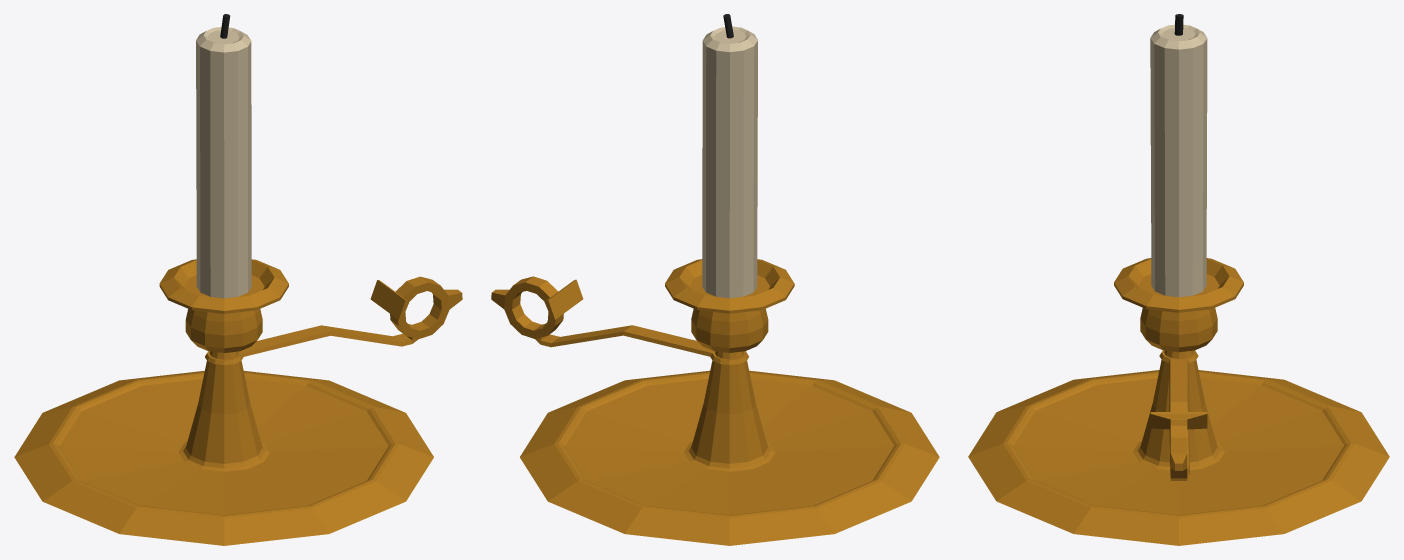
File: Candelabro.fbx
3 renders of one model, left to right at view 1: azimuth 30°, elevation 25°; view 2: azimuth 150°, elevation 25°; view 3: azimuth 270°, elevation 25°, orthographic.
Parts seen in each view (by area): view 1: Candelabro; view 2: Candelabro; view 3: Candelabro.
Part boxes in pixels (left/top/right/bottom): Candelabro: left=14, top=14, right=462, bottom=545; Candelabro: left=491, top=14, right=939, bottom=545; Candelabro: left=968, top=14, right=1389, bottom=545.
Size of the model in its own units: 26.1 by 26.29 by 22.69.
